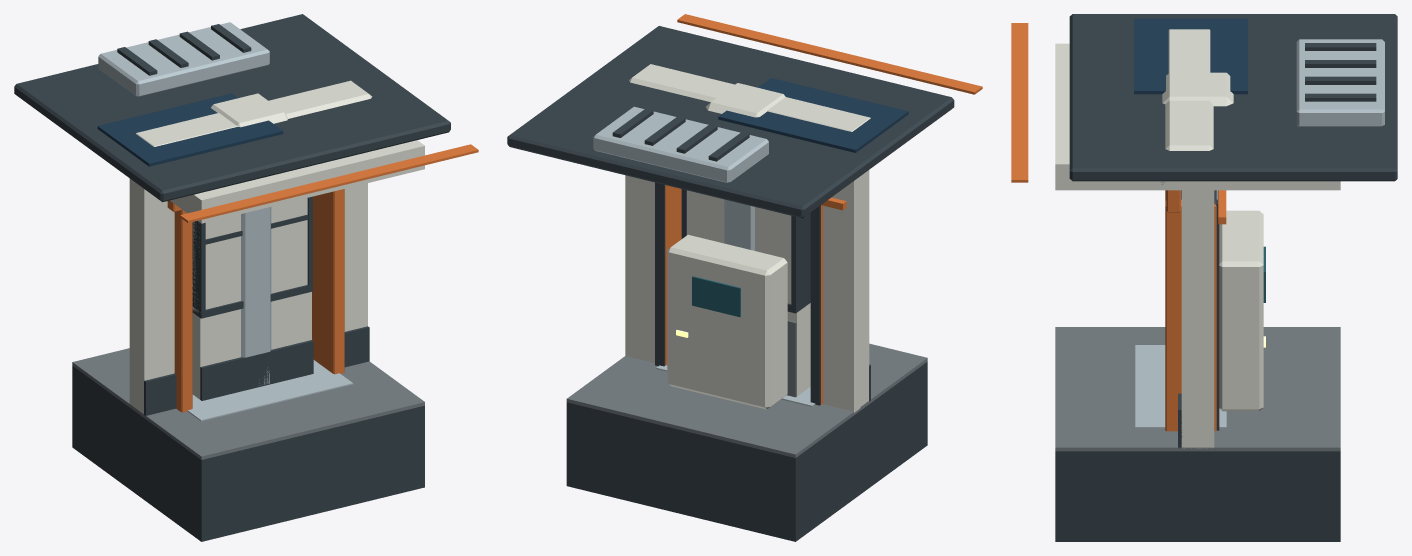
Rendered from habitat-kit.glb.
The picture shows the model from 3 angles, left to right: view 1: azimuth 30°, elevation 25°; view 2: azimuth 150°, elevation 25°; view 3: azimuth 270°, elevation 25°; orthographic projection. The views are drawn at different scales.
Parts seen in each view (by area): view 1: RoofModule, Floor, Airlock, Wall, Window, Roof.002, Corner, RoofEdge, RoofCorner; view 2: RoofModule, Floor, Airlock, Cabinet, Wall, RoofEdge, Window, RoofCorner, Corner; view 3: RoofModule, Floor, Airlock, Cabinet, Roof.002, RoofEdge, RoofCorner.
Boxes of the visible parts, x1,y1,x2,y2 form: RoofModule: (14,14,478,222); Floor: (72,348,424,541); Airlock: (129,178,369,421); Wall: (192,198,313,399); Window: (192,196,313,400); Roof.002: (170,140,424,223); Corner: (241,207,271,385); RoofEdge: (136,80,372,146); RoofCorner: (211,93,287,127); RoofModule: (507,14,982,218); Floor: (566,343,927,541); Airlock: (625,170,870,412); Cabinet: (667,197,846,409); Wall: (687,190,810,397); RoofEdge: (629,64,870,131); Window: (681,189,810,394); RoofCorner: (705,83,785,117); Corner: (724,199,754,250); RoofModule: (1011,14,1397,182); Floor: (1055,327,1340,541); Airlock: (1135,190,1226,448); Cabinet: (1218,190,1265,411); Roof.002: (1055,43,1340,190); RoofEdge: (1161,29,1213,186); RoofCorner: (1162,72,1233,106).
Size of the model in its own units: 2.6 by 3.18 by 2.71.
